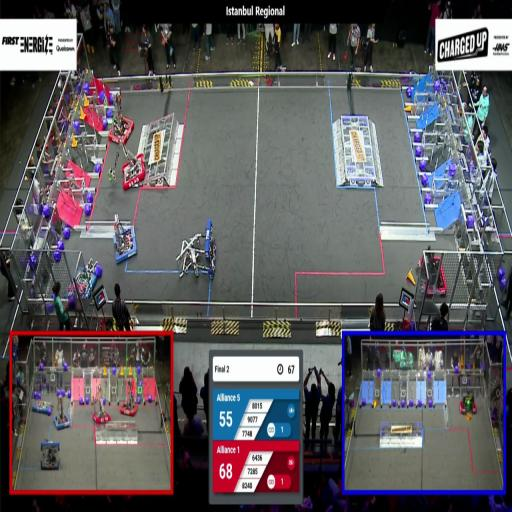robot: (175, 218, 216, 282), (106, 140, 144, 190), (108, 89, 137, 146), (417, 246, 448, 298), (110, 215, 138, 263), (68, 263, 98, 300), (39, 435, 61, 474), (92, 385, 110, 427), (120, 379, 138, 417), (458, 384, 478, 418), (54, 394, 70, 430), (33, 397, 52, 418)
